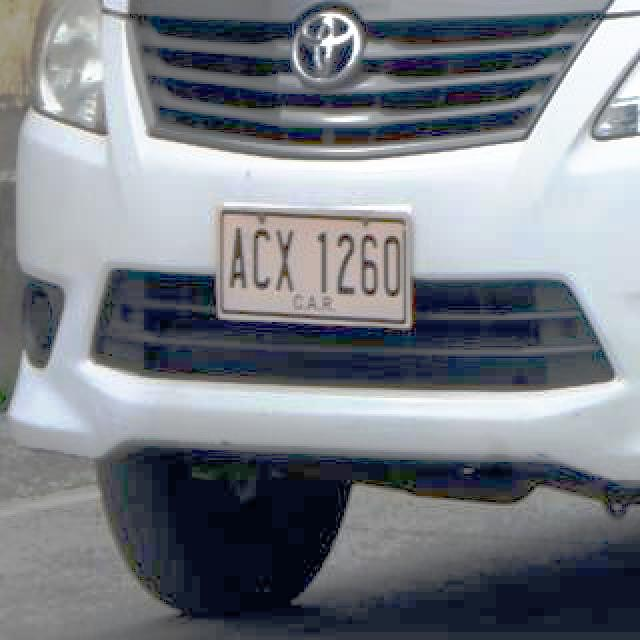license_plate: (223, 208, 409, 323)
